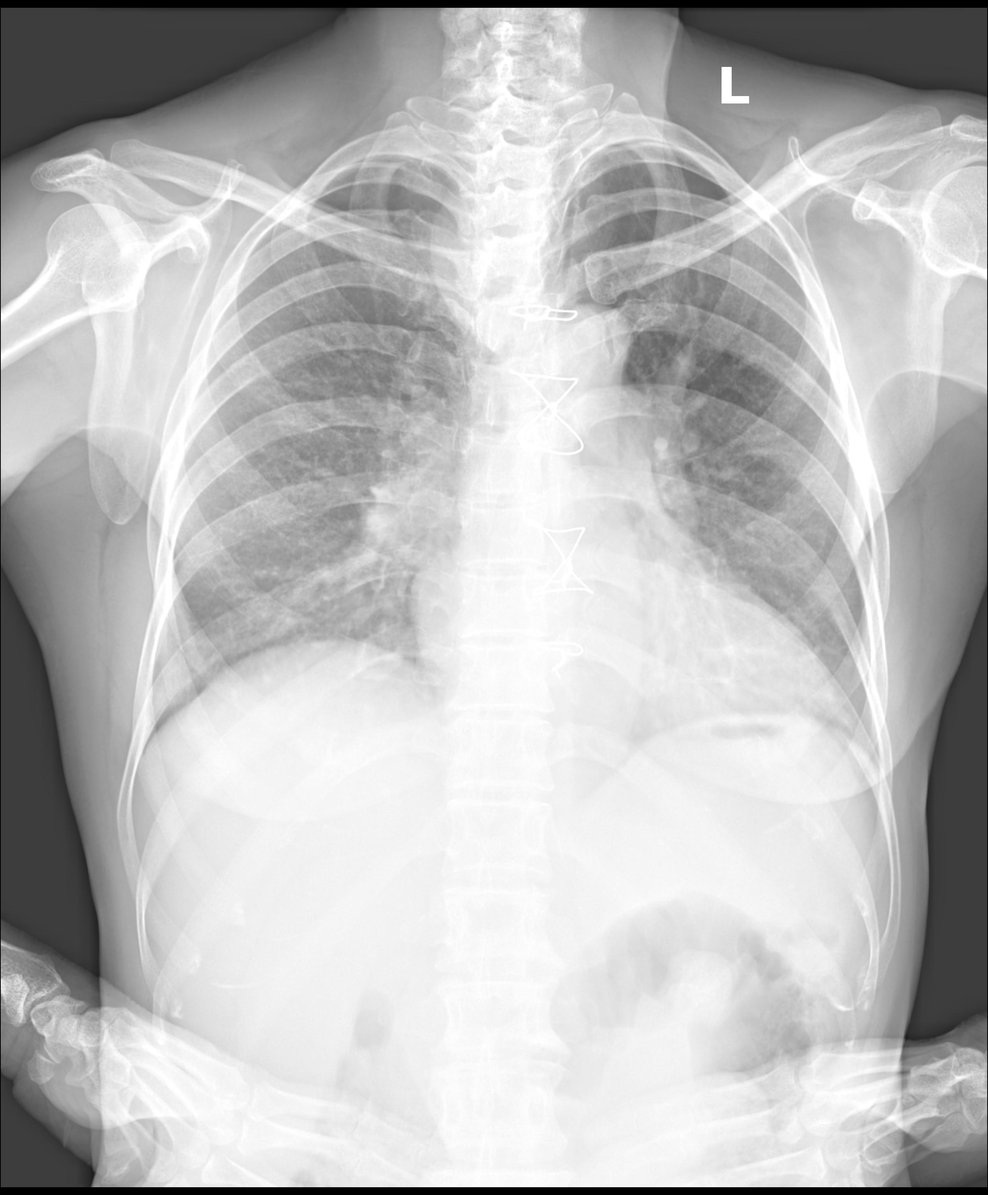Cardiomegaly: (408, 552, 841, 730)
